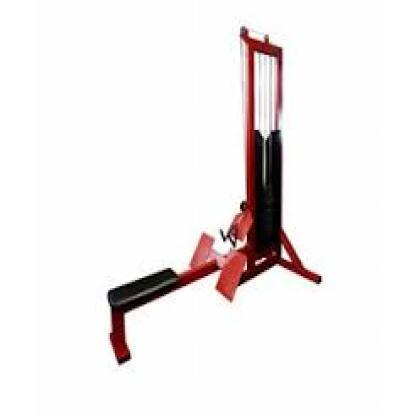Seated Cable Rows: (96, 18, 331, 366)
